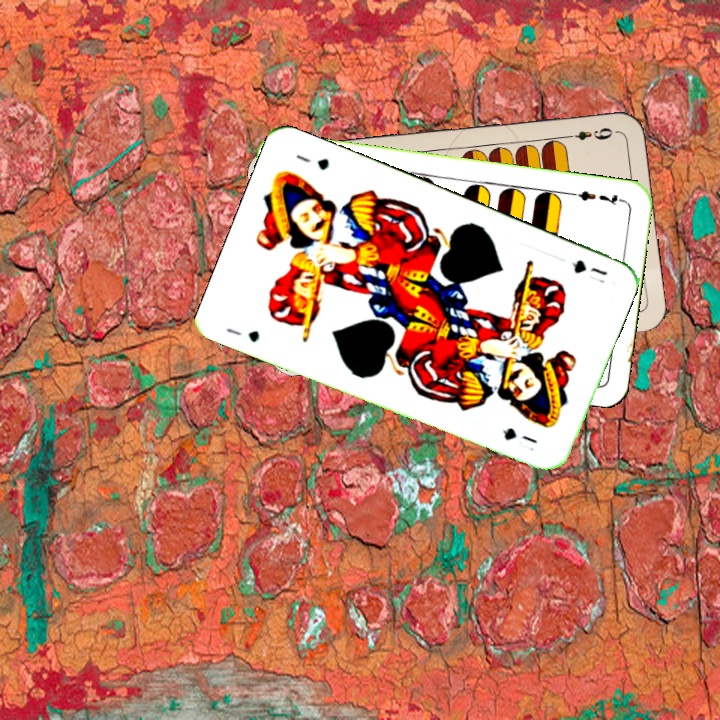E7: (568, 187, 627, 208)
E9: (560, 123, 615, 143)
GU: (567, 255, 610, 279), (222, 324, 263, 346)
